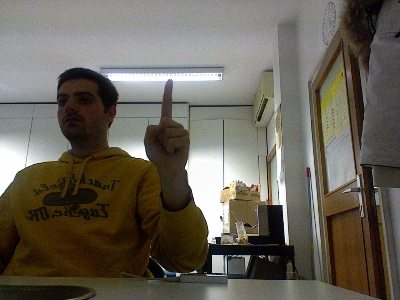食指: (142, 77, 191, 171)
